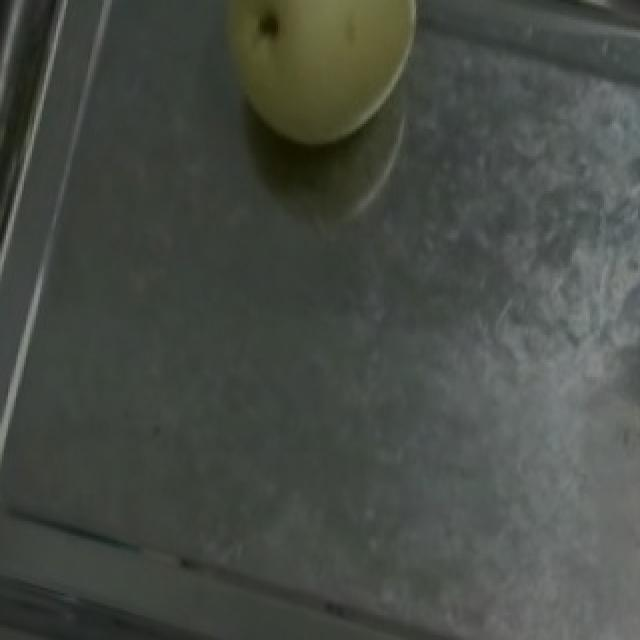Fruit: (186, 0, 444, 176)
